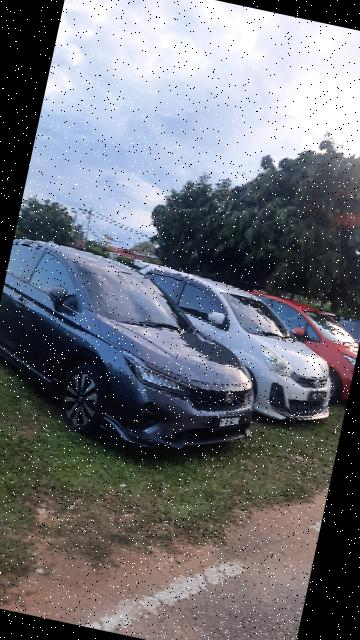License_Plate: (215, 410, 248, 436)
car: (1, 236, 298, 484)
